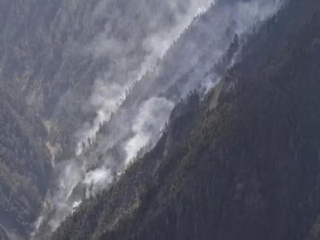smoke: (50, 89, 168, 215)
